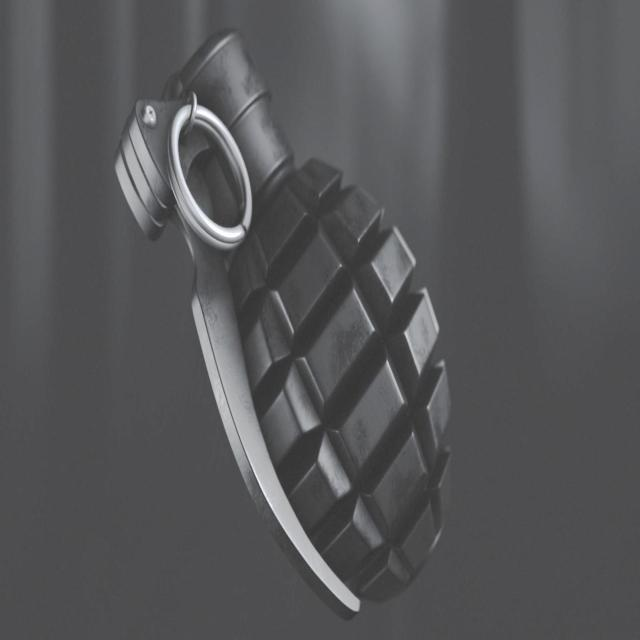grenade: (116, 29, 455, 615)
